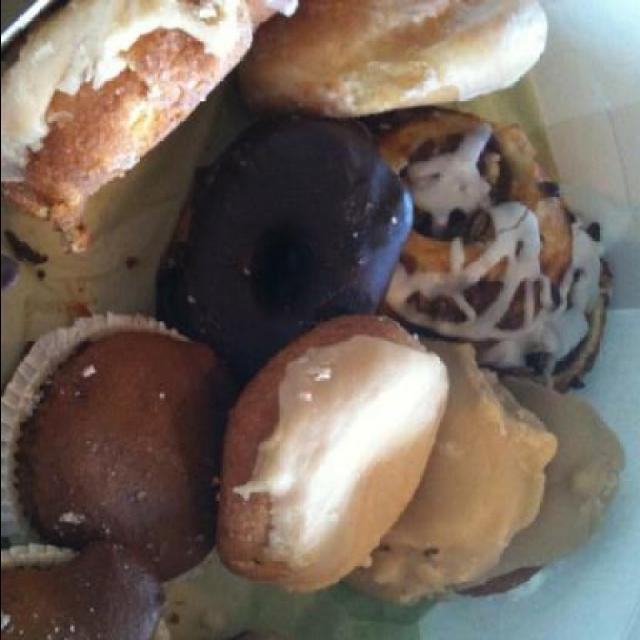Donuts: (1, 4, 616, 638)
